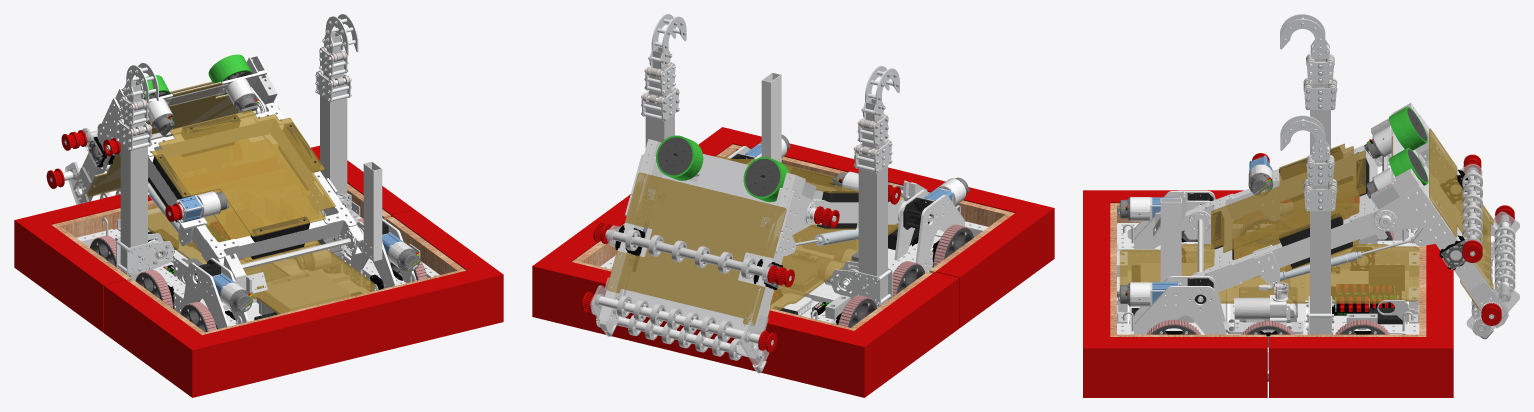
File: galleon-small.glb
The picture shows the model from 3 angles, left to right: view 1: azimuth 30°, elevation 25°; view 2: azimuth 150°, elevation 25°; view 3: azimuth 270°, elevation 25°; orthographic projection. The views are drawn at different scales.
Parts seen in each view (by area): view 1: 2024_Main; view 2: 2024_Main; view 3: 2024_Main.
Boxes of the visible parts, x1,y1,x2,y2 form: 2024_Main: (14, 14, 503, 397); 2024_Main: (532, 14, 1054, 397); 2024_Main: (1083, 14, 1519, 397).
Bounding box in the file's own units: 35.87 × 27.44 × 41.92.
Materials: 205 (1 with a texture image).
